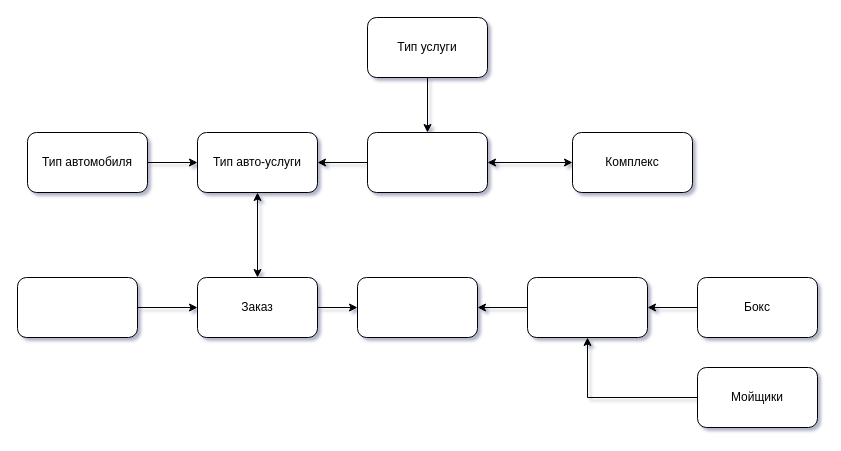
The diagram is 841 pixels wide and 451 high, and some of its shapes have lost their labels. Here are the shapes that lost their labels. From the top down, the box of each, then its label:
(366, 132, 488, 192): Услуги
(16, 276, 138, 338): Клиент
(356, 276, 478, 338): Заказ-график
(526, 276, 648, 338): Бокс-мойщик день
